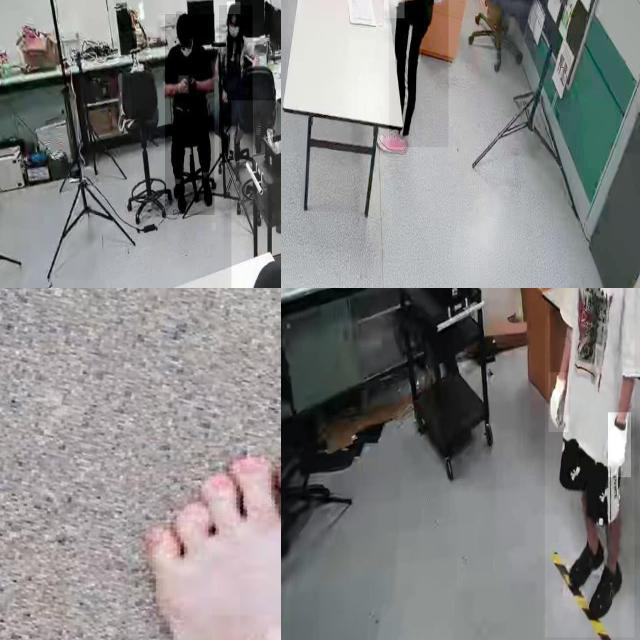Barefoots: (69, 391, 281, 640)
hand_glove: (608, 412, 632, 478), (549, 372, 569, 433), (384, 0, 405, 19)
hand_noglove: (179, 76, 189, 94), (188, 74, 197, 92)
head_nohelmet: (176, 11, 193, 31), (227, 2, 241, 15)
person: (545, 288, 635, 638), (165, 14, 215, 216), (389, 0, 449, 147), (219, 5, 253, 164)
shoes: (588, 548, 628, 626), (564, 534, 606, 596), (376, 122, 410, 156), (171, 179, 190, 216), (196, 171, 215, 207)
